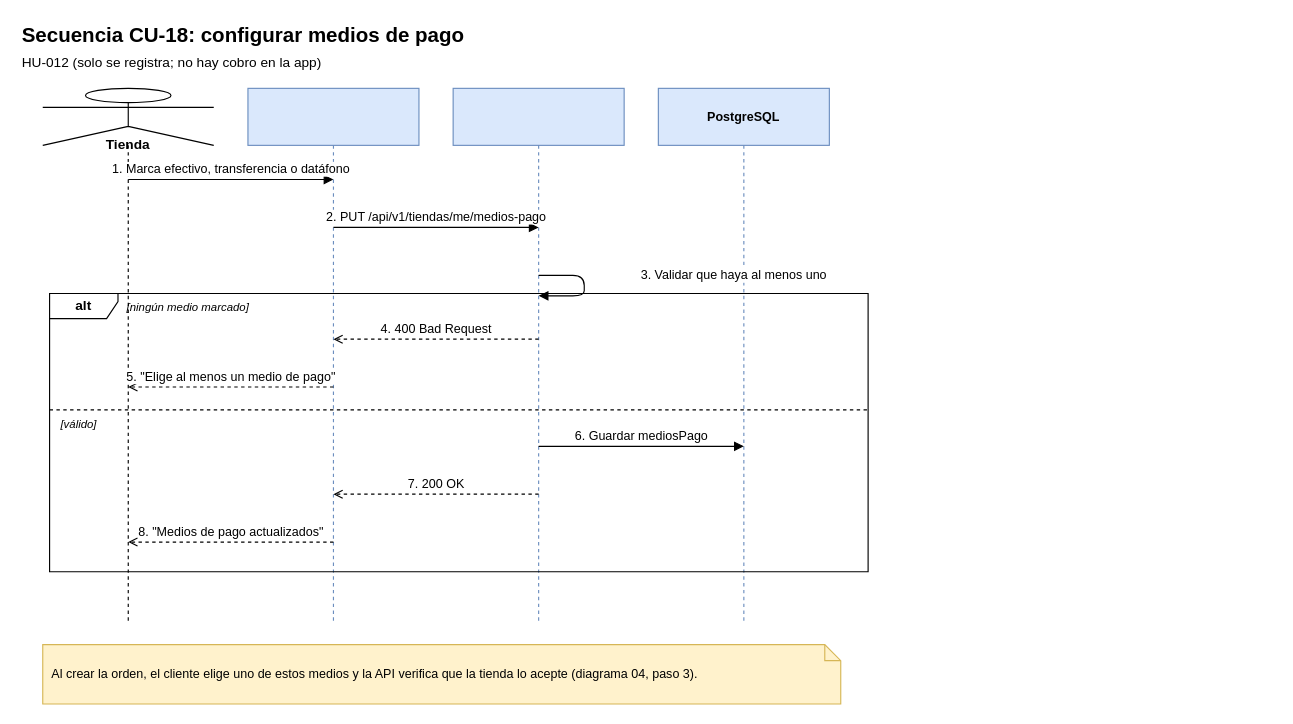
Image size: 1293x724. Some labels were removed from this diagram. The box of each missing label's shape, as (x1, y1, x2, y2) in pixels:
API REST módulo tiendas: (452, 87, 624, 622)
PWA tienda: (247, 87, 419, 622)
